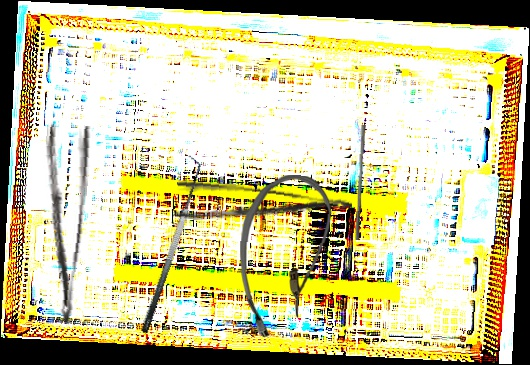Cannula: (237, 173, 333, 340)
Dressing Forceps: (27, 121, 94, 325), (173, 177, 353, 239)
Pusher: (354, 124, 367, 241)
Spatula Surgical: (126, 154, 211, 335)
